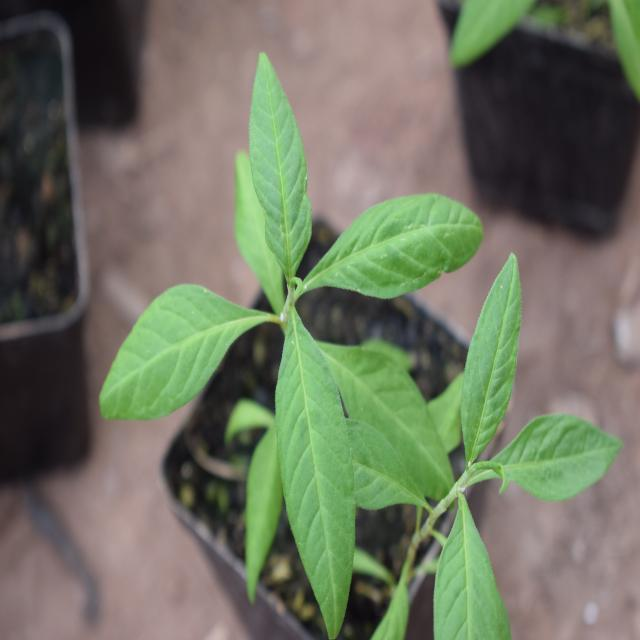white_smart_weed: (123, 58, 457, 610), (403, 231, 603, 638)
